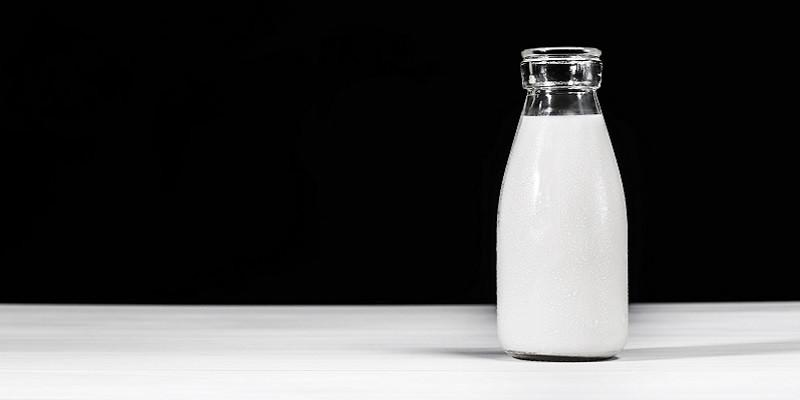glass of milk: (496, 80, 640, 354)
